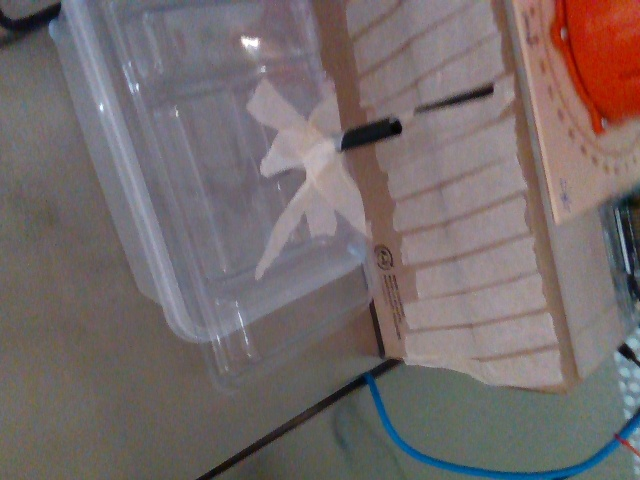test_strip: (394, 83, 492, 122)
